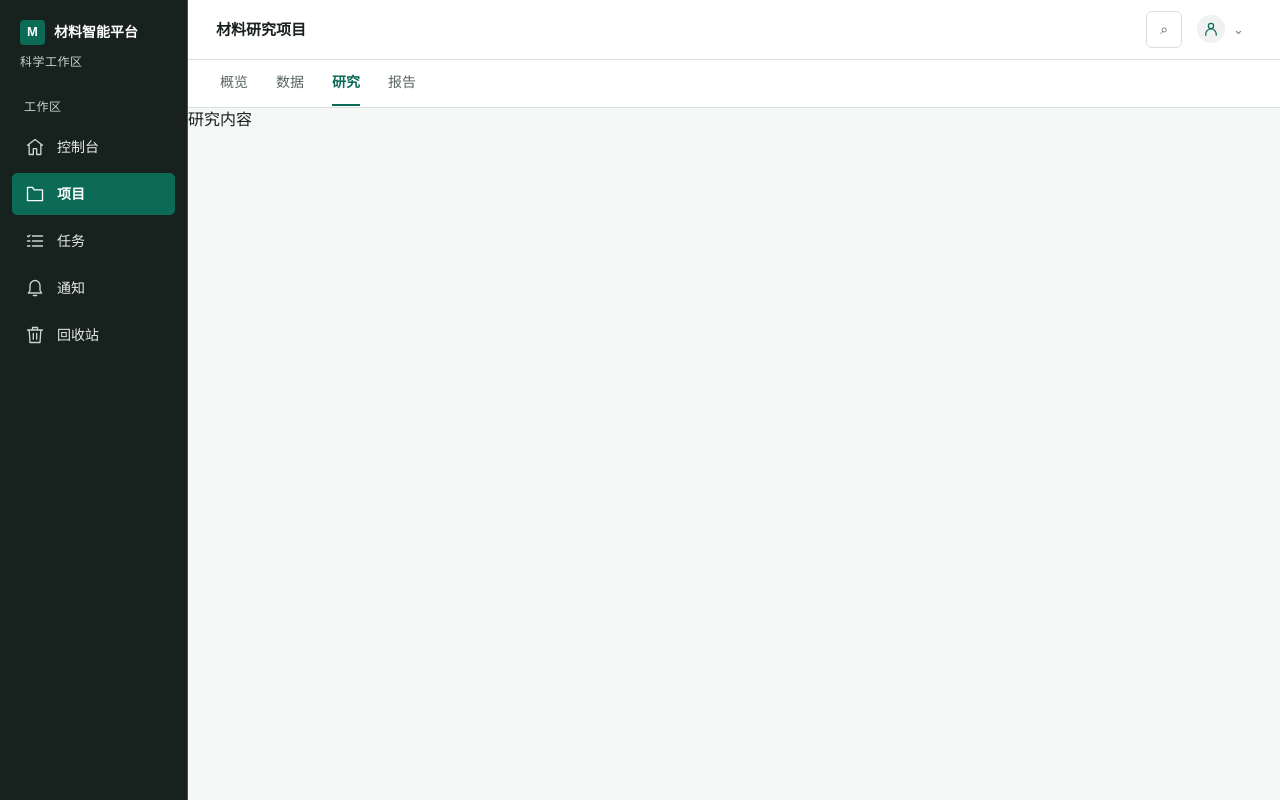
Test: supports the keyboard search shortcut and clears a query without losing focus
Check: the button named "搜索科学工作" is shown, box [1146,11,1182,48]
Type keys "{Control>}k{/Control}"
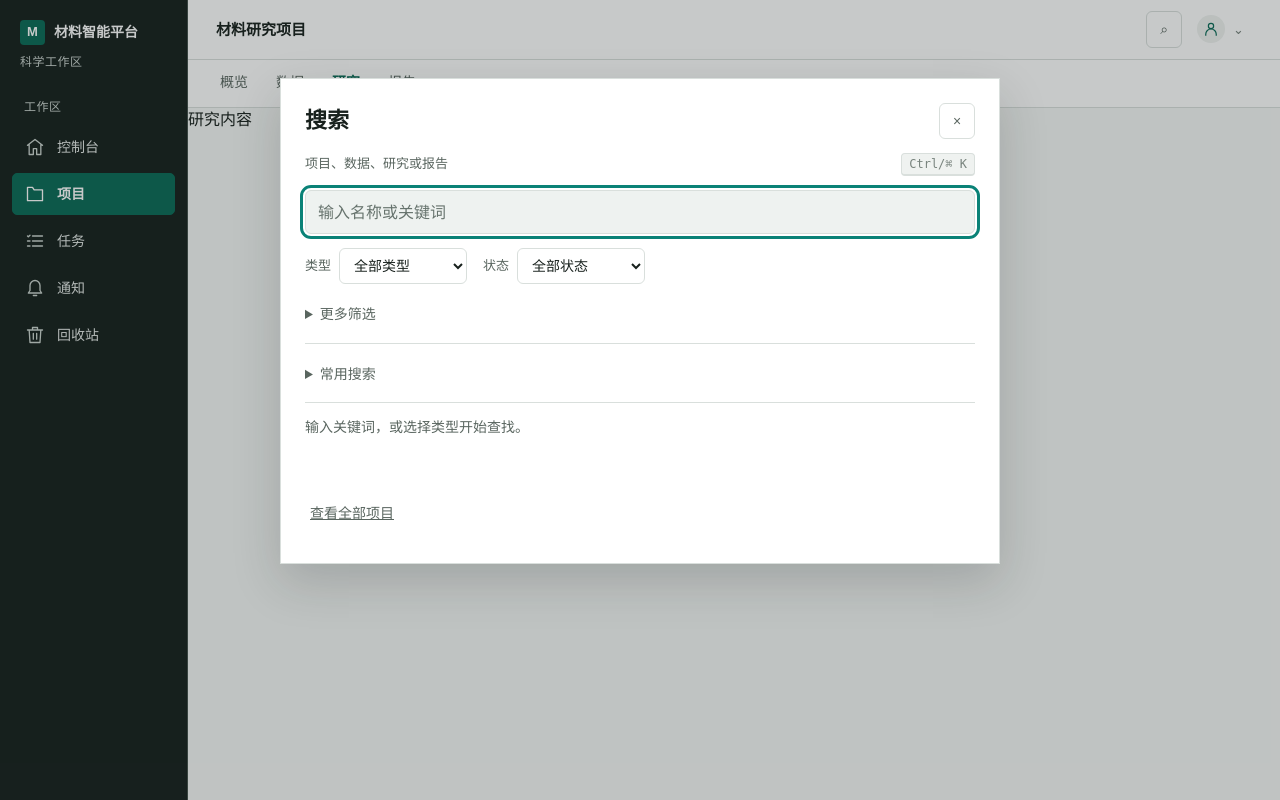
In the field labelled "项目、数据、研究或报告": point(640, 212) [305,190,975,234], type "band"
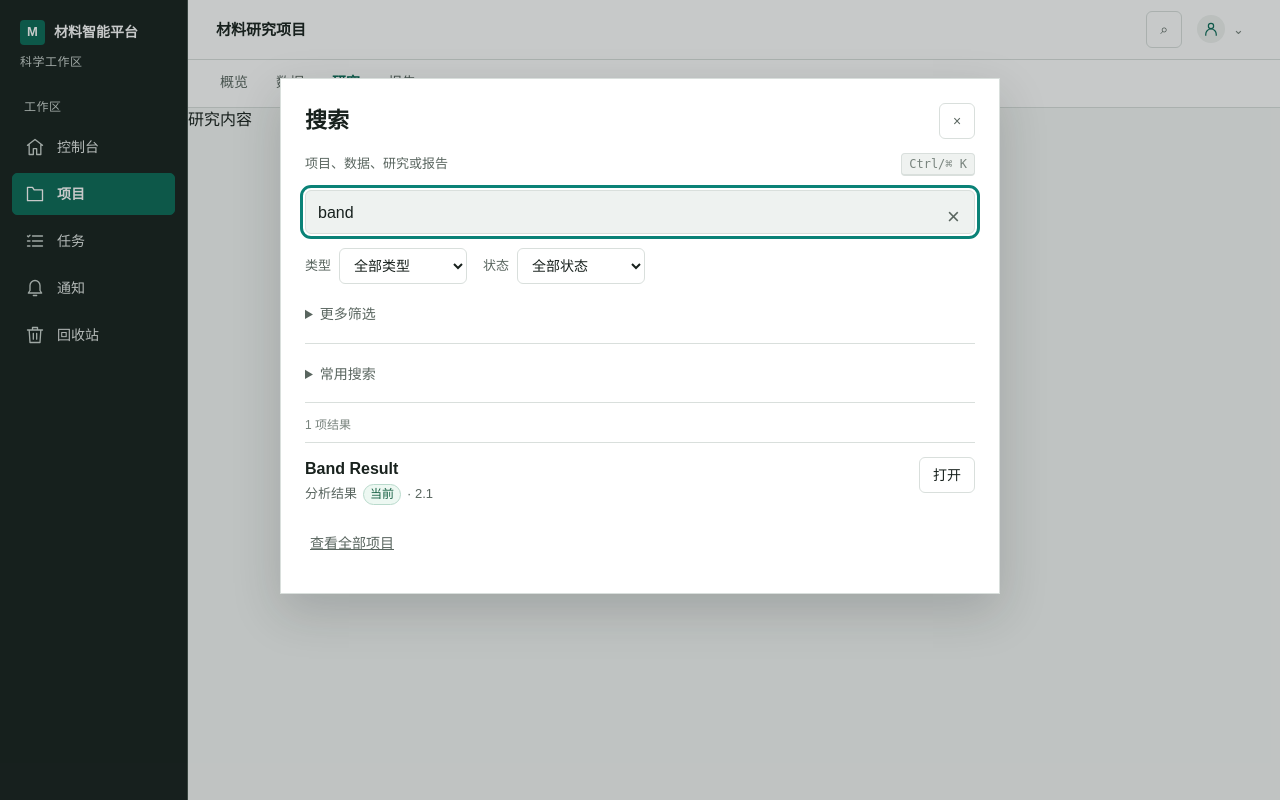
Check: the message named "找到 3 项，显示前 1 项" is shown, box [305,418,351,432]
Click the button named "清除搜索": point(953, 212) [935,194,971,230]
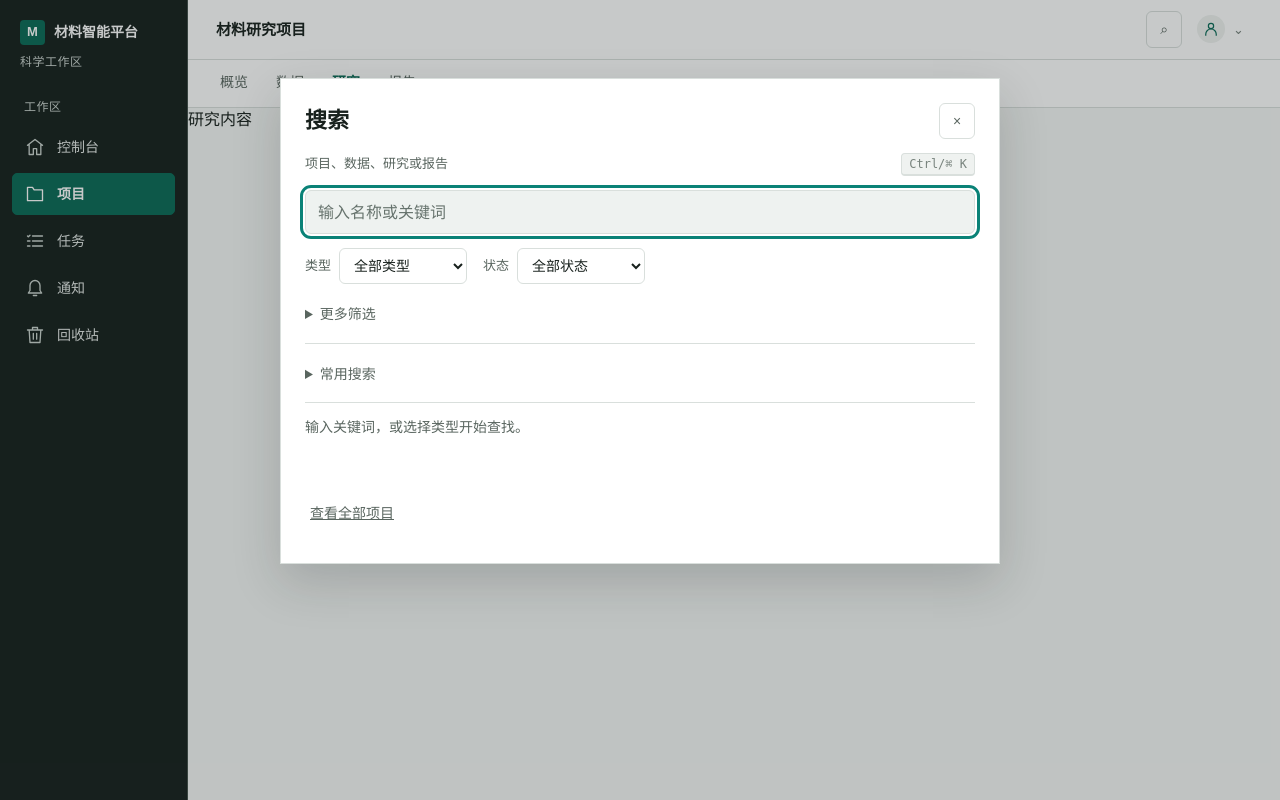
Check: the field labelled "项目、数据、研究或报告" is empty, box [305,190,975,234]
